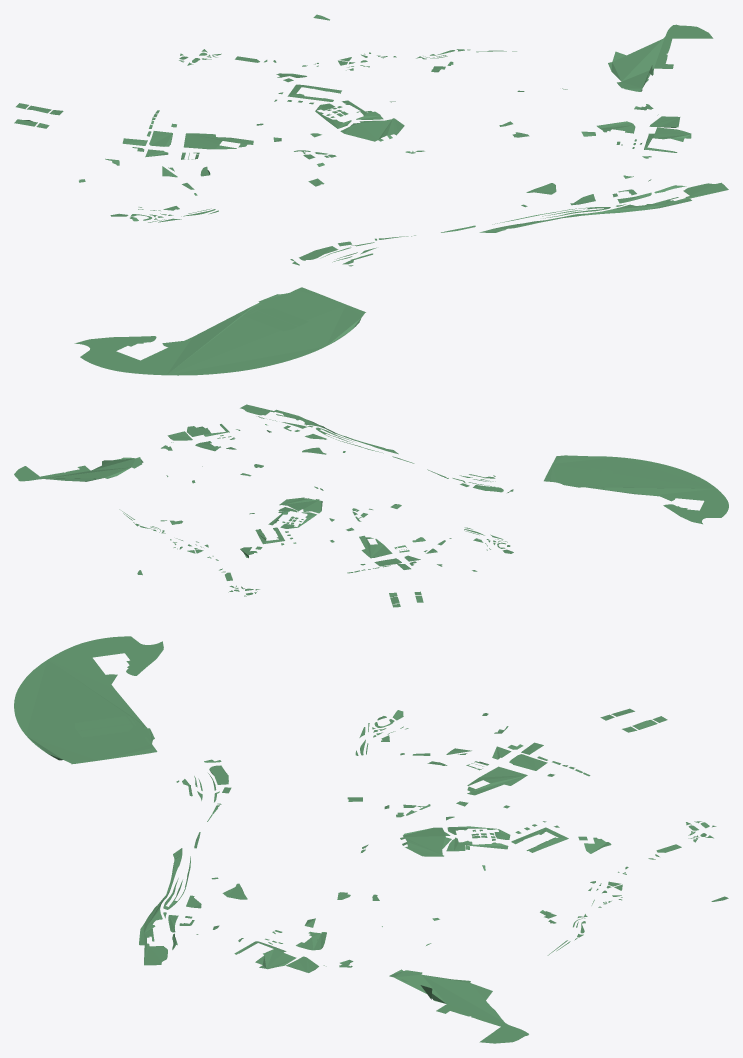
File: green.glb
3 renders of one model, top to bottom at view 1: azimuth 30°, elevation 25°; view 2: azimuth 150°, elevation 25°; view 3: azimuth 270°, elevation 25°, orthographic. The views are drawn at different scales.
Parts seen in each view (by area): view 1: green; view 2: green; view 3: green.
Part boxes in pixels (x1,y1,x2,y2): green: (14, 14, 728, 375); green: (14, 404, 728, 607); green: (14, 636, 728, 1043).
Size of the model in its own units: 4050 by 90.48 by 3005.
